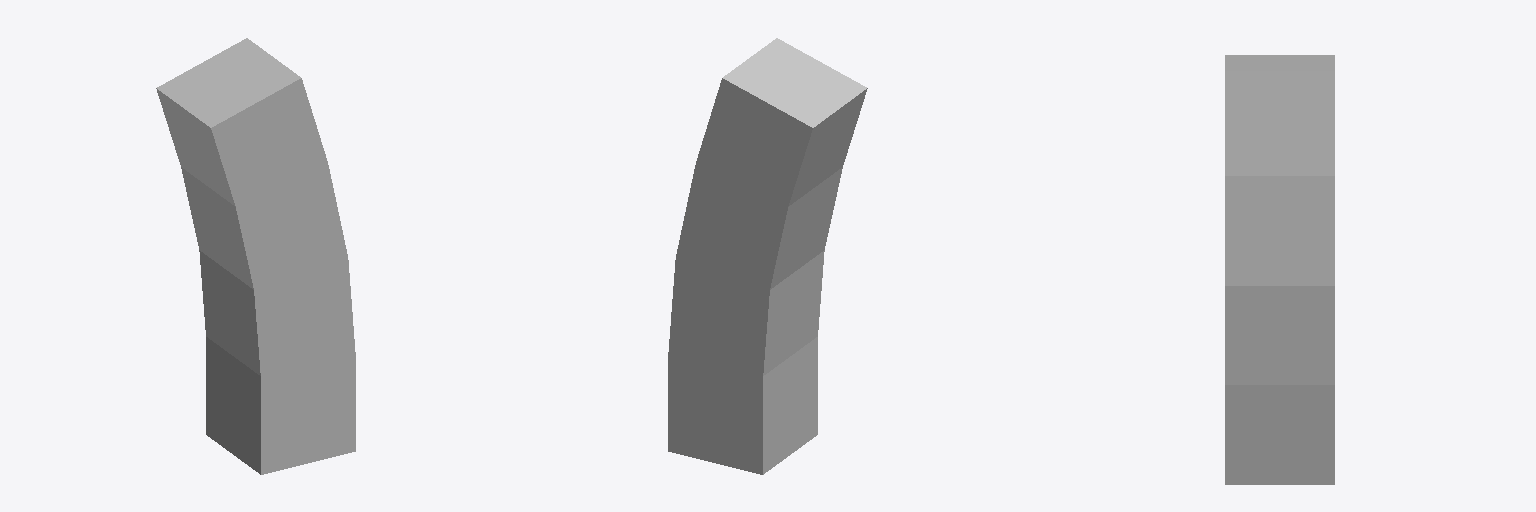
Rendered from Animation_000042.obj.
3 views of the same model, side by side, from view 1: azimuth 30°, elevation 25°; view 2: azimuth 150°, elevation 25°; view 3: azimuth 270°, elevation 25° (orthographic).
Visible parts, largest first — view 1: Cube; view 2: Cube; view 3: Cube.
Part boxes in pixels (x1,y1,x2,y2): Cube: (156,38,355,474); Cube: (668,38,867,474); Cube: (1225,55,1334,484).
Bounding box in the file's own units: 2.04 × 5.2 × 1.33.